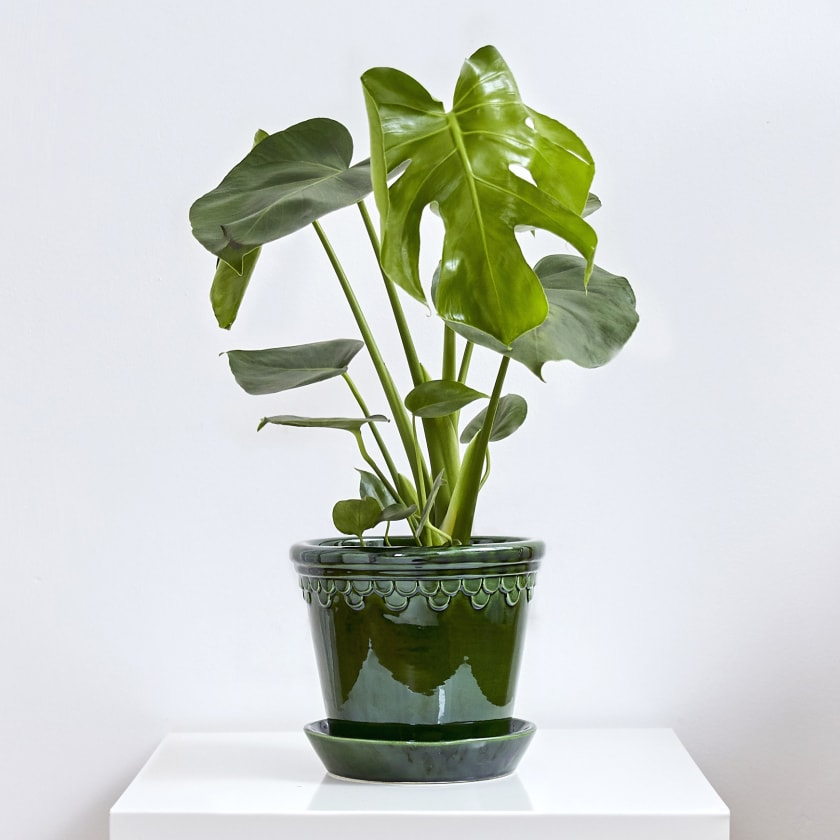plant: (114, 17, 703, 803)
